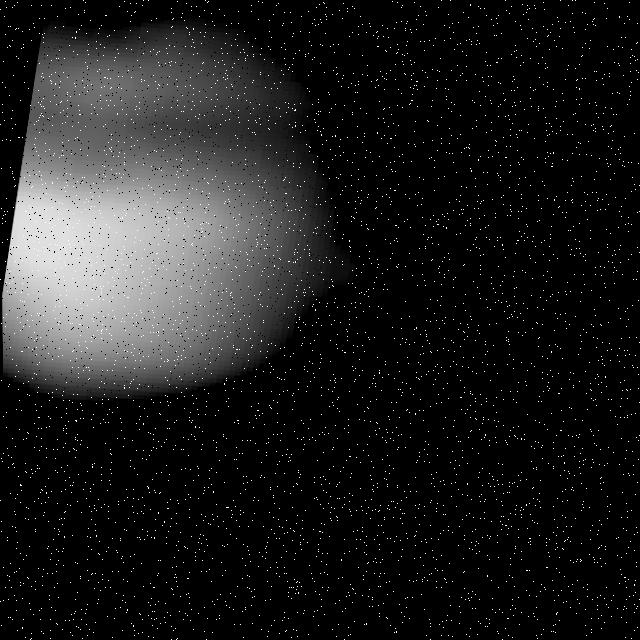person: (2, 123, 445, 475)
